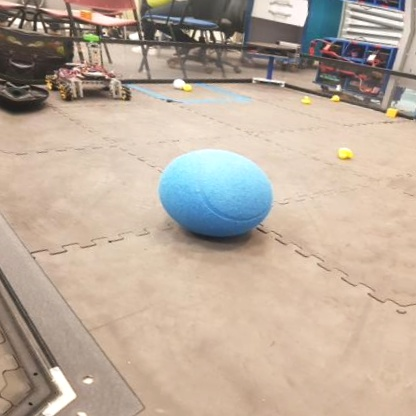sphere: (130, 143, 281, 241)
